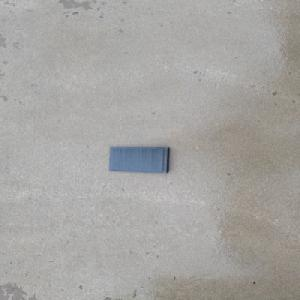PlasticPart: (106, 145, 172, 173)
